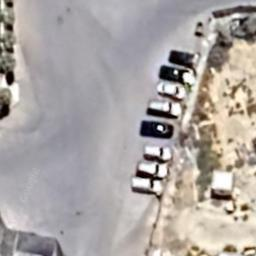pickup: (147, 98, 182, 118)
sedan: (156, 82, 186, 100)
unknown: (168, 49, 199, 67)
van: (160, 65, 196, 84), (140, 120, 174, 138), (132, 177, 164, 194), (136, 162, 170, 176), (144, 145, 172, 160)
